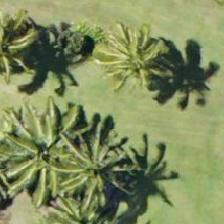coconut_tree: (91, 11, 181, 101), (53, 121, 143, 211), (0, 108, 81, 198), (41, 171, 131, 223)
